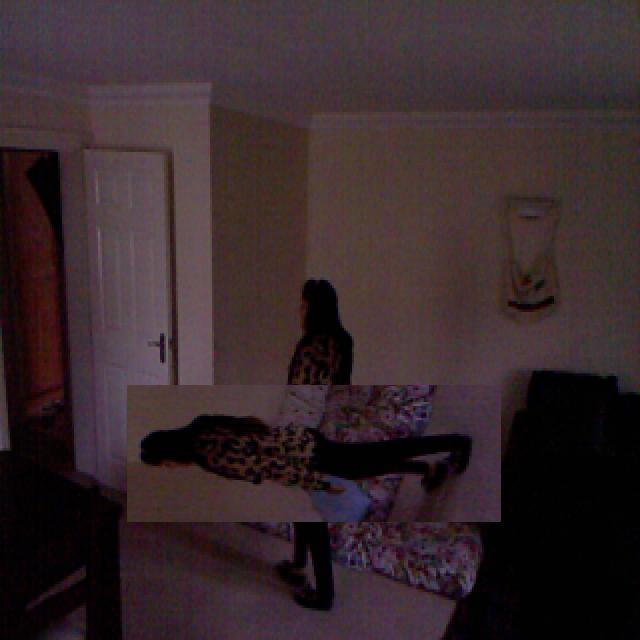NotFall: (136, 388, 493, 515)
